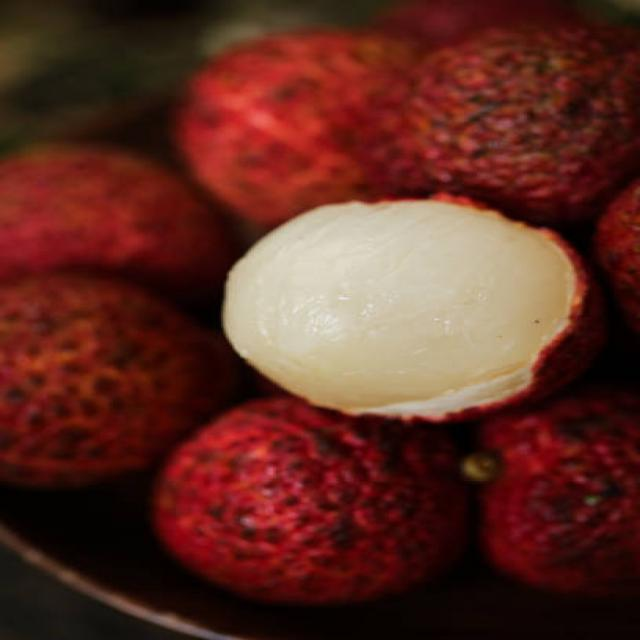lychee: (213, 136, 606, 442)
